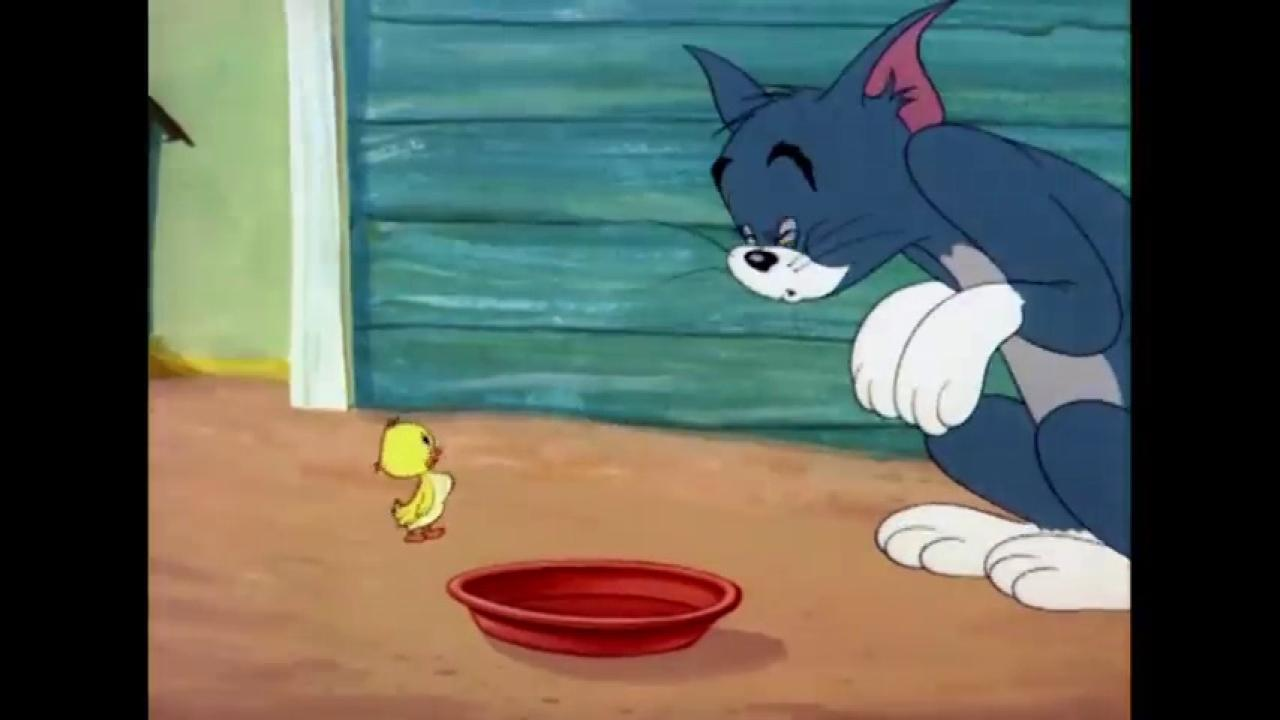Tom: (679, 0, 1130, 611)
